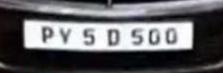0: (146, 27, 163, 46), (163, 27, 179, 45)
5: (81, 26, 98, 49), (128, 26, 146, 47)
D: (106, 26, 121, 47)
P: (40, 25, 55, 44)
Y: (59, 25, 73, 45)
